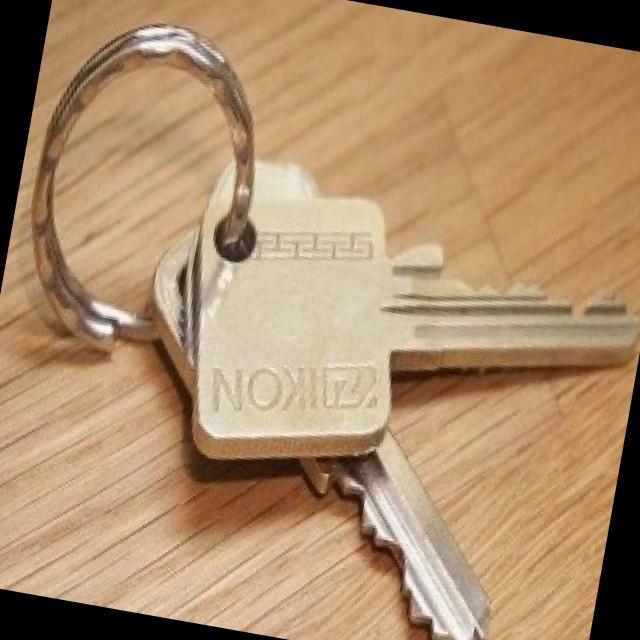anahtar: (134, 118, 640, 541)
